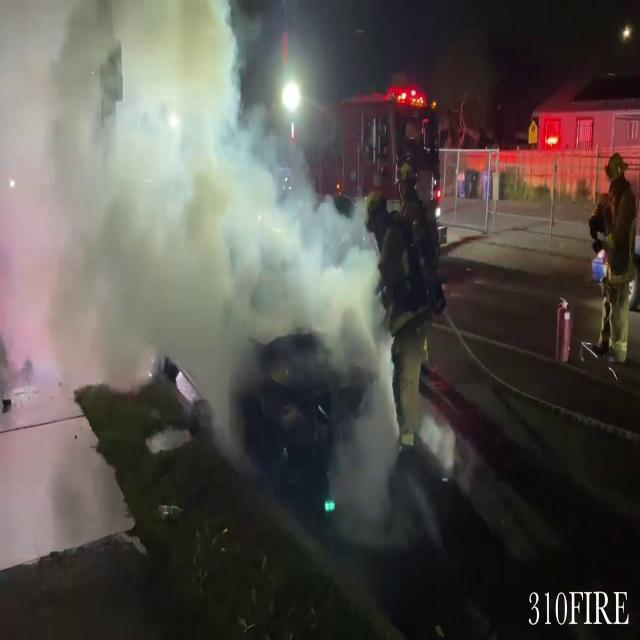Smoke: (0, 0, 396, 425)
